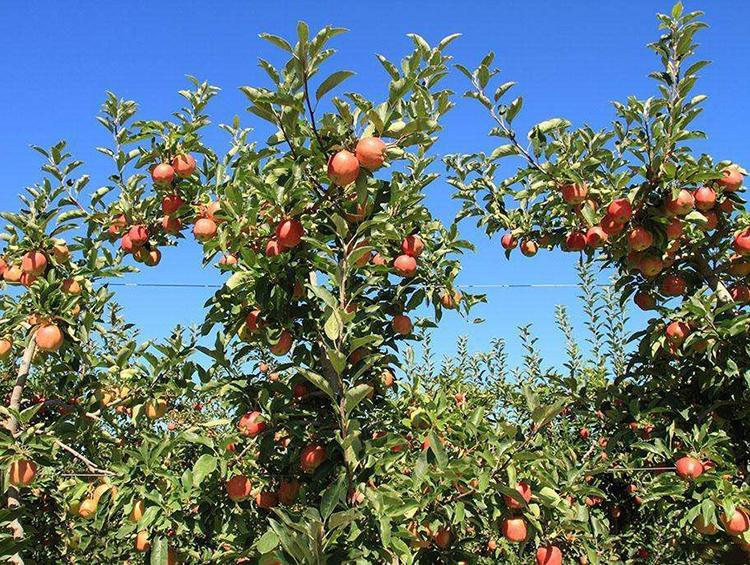apple: (356, 136, 389, 172), (327, 150, 360, 185), (664, 187, 695, 216), (238, 410, 271, 437), (276, 218, 305, 248), (35, 323, 63, 351), (10, 458, 37, 486), (301, 443, 326, 471), (675, 456, 704, 480), (226, 474, 251, 499), (629, 226, 653, 252), (504, 516, 528, 541), (401, 233, 425, 258), (194, 218, 218, 242), (666, 319, 687, 345), (694, 185, 717, 208), (170, 151, 194, 173), (394, 253, 417, 275), (608, 198, 631, 220), (663, 274, 686, 295), (152, 162, 175, 182), (601, 213, 622, 234)
